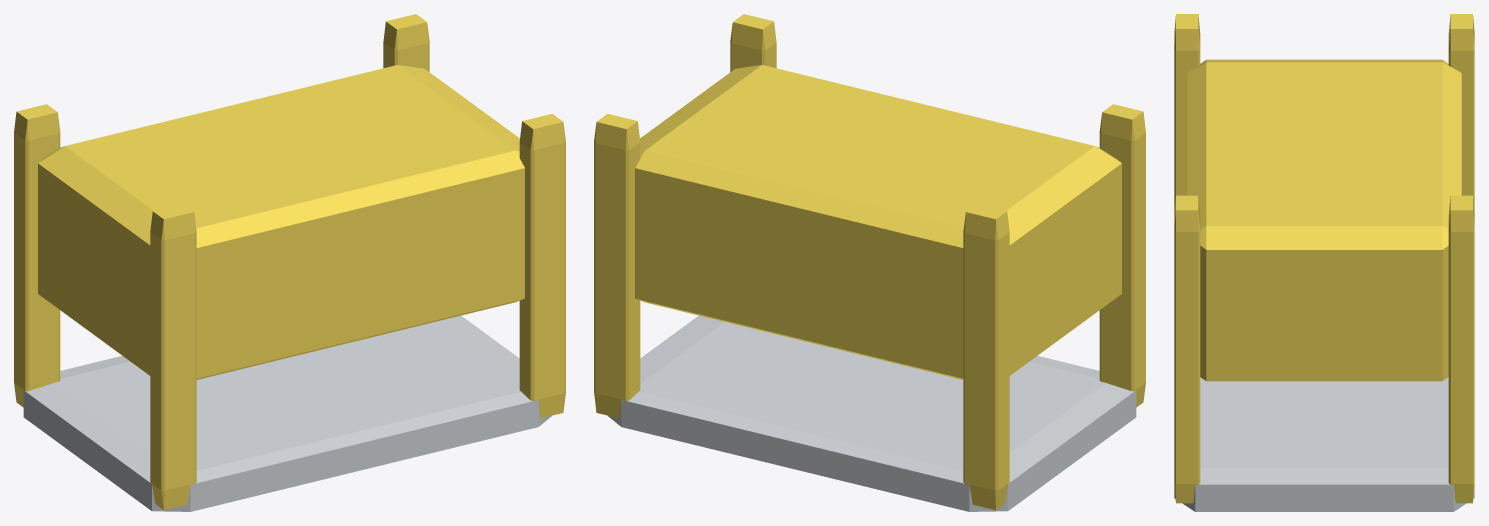
File: b07_steel_trench_shoring_box.glb
3 renders of one model, left to right at view 1: azimuth 30°, elevation 25°; view 2: azimuth 150°, elevation 25°; view 3: azimuth 270°, elevation 25°, orthographic.
Visible parts, largest first — view 1: b07_steel_trench_shoring_box; view 2: b07_steel_trench_shoring_box; view 3: b07_steel_trench_shoring_box.
Boxes of the visible parts, left/top/right/bottom form: b07_steel_trench_shoring_box: left=14, top=14, right=565, bottom=511; b07_steel_trench_shoring_box: left=594, top=14, right=1145, bottom=511; b07_steel_trench_shoring_box: left=1174, top=14, right=1474, bottom=511.
Size of the model in its own units: 3.85 by 2.73 by 2.46.
